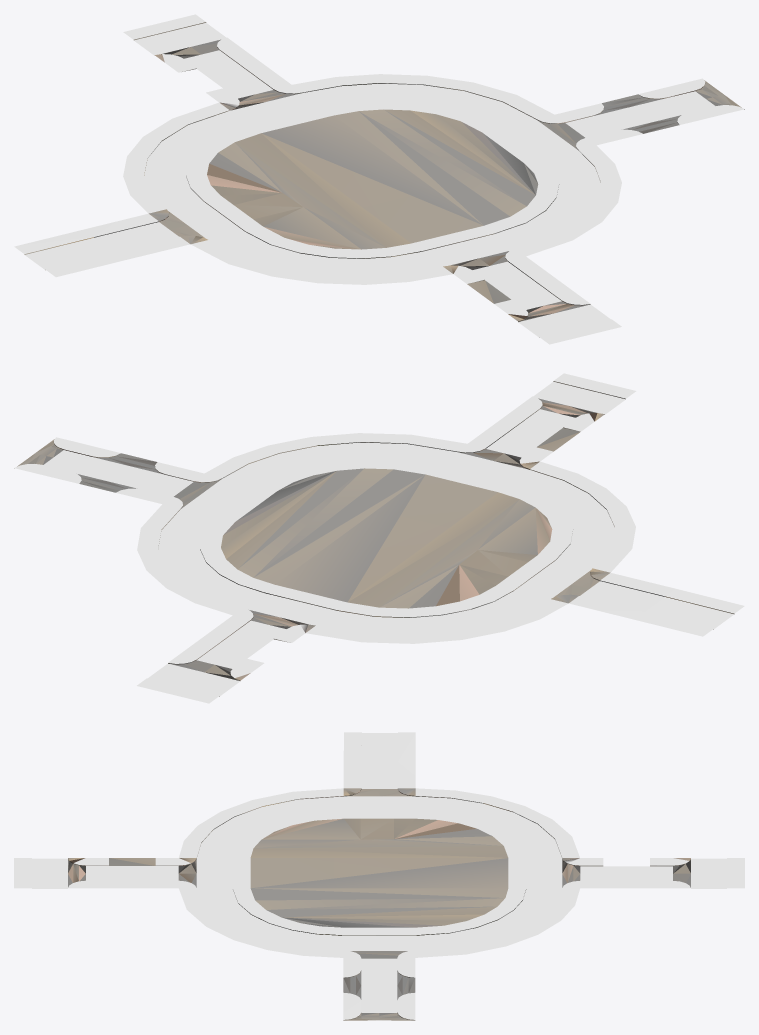
The model's file is ziedas.fbx.
3 renders of one model, top to bottom at view 1: azimuth 30°, elevation 25°; view 2: azimuth 150°, elevation 25°; view 3: azimuth 270°, elevation 25°, orthographic. The views are drawn at different scales.
Visible parts, largest first — view 1: airoad1b_LAS; view 2: airoad1b_LAS; view 3: airoad1b_LAS.
Part boxes in pixels (x1,y1,x2,y2): airoad1b_LAS: [14, 14, 744, 344]; airoad1b_LAS: [14, 373, 744, 703]; airoad1b_LAS: [14, 732, 744, 1020].
Bounding box in the file's own units: 18956 × 27.16 × 20349.
